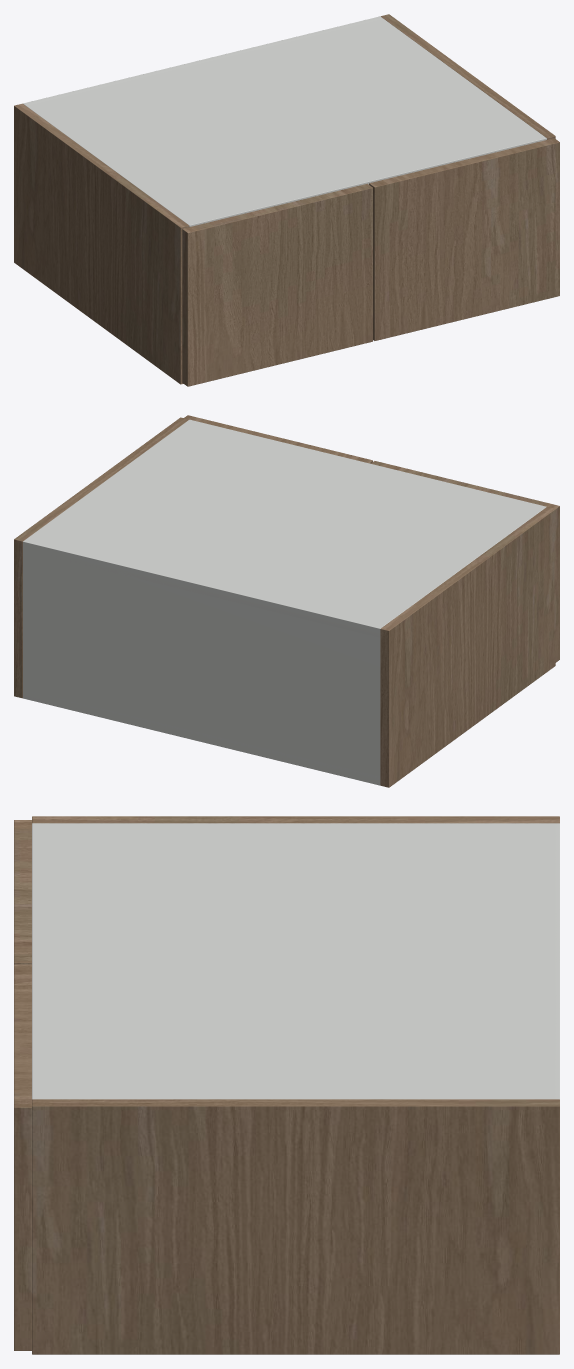
File: oppein-pb-mnw-w301224.glb
The picture shows the model from 3 angles, top to bottom: view 1: azimuth 30°, elevation 25°; view 2: azimuth 150°, elevation 25°; view 3: azimuth 270°, elevation 25°; orthographic projection. The views are drawn at different scales.
Parts seen in each view (by area): view 1: Cabinet top, Door, Door.001, Cabinet side, Cabinet side.001, Cabinet back; view 2: Cabinet top, Cabinet back, Cabinet side, Cabinet side.001, Door, Door.001, Cabinet bottom; view 3: Cabinet top, Cabinet side.001, Door.001, Cabinet side, Cabinet back, Door.
Boxes of the visible parts, x1,y1,x2,y2 form: Cabinet top: [23, 16, 546, 226]; Door: [182, 183, 372, 386]; Door.001: [369, 138, 559, 340]; Cabinet side: [14, 103, 189, 384]; Cabinet side.001: [381, 14, 555, 139]; Cabinet back: [23, 16, 382, 105]; Cabinet top: [26, 419, 546, 637]; Cabinet back: [23, 539, 382, 785]; Cabinet side: [380, 507, 555, 787]; Cabinet side.001: [14, 417, 188, 698]; Door: [371, 461, 559, 662]; Door.001: [184, 415, 372, 463]; Cabinet bottom: [23, 691, 379, 783]; Cabinet top: [32, 823, 559, 1099]; Cabinet side.001: [32, 1099, 559, 1354]; Door.001: [14, 964, 31, 1350]; Cabinet side: [32, 816, 559, 823]; Cabinet back: [549, 823, 559, 1099]; Door: [14, 820, 31, 964].
Size of the model in its own units: 0.762 by 0.3048 by 0.6064.
Materials: 2 (1 with a texture image).
